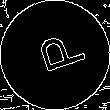P_W: (25, 29, 85, 81)
